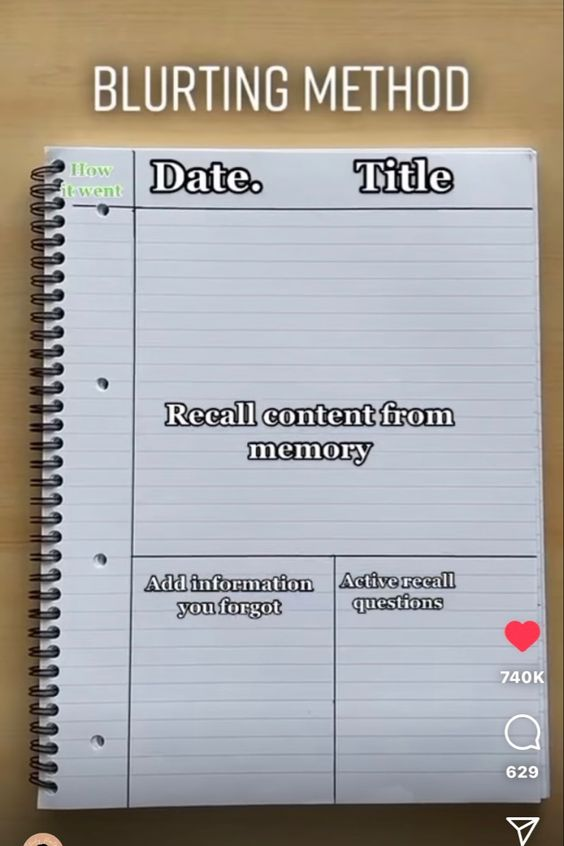page: (70, 148, 538, 801)
